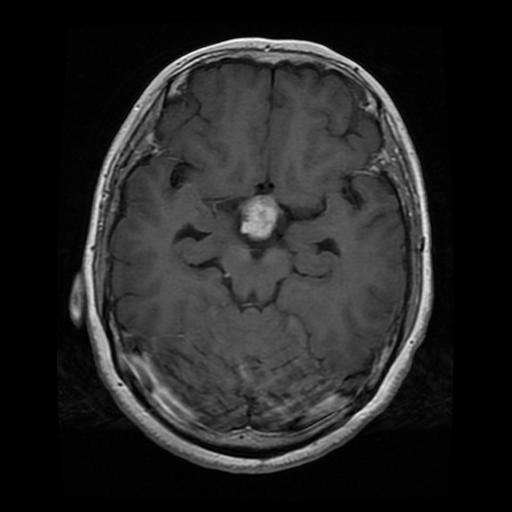Tumour-Pituitary: (237, 197, 280, 242)
